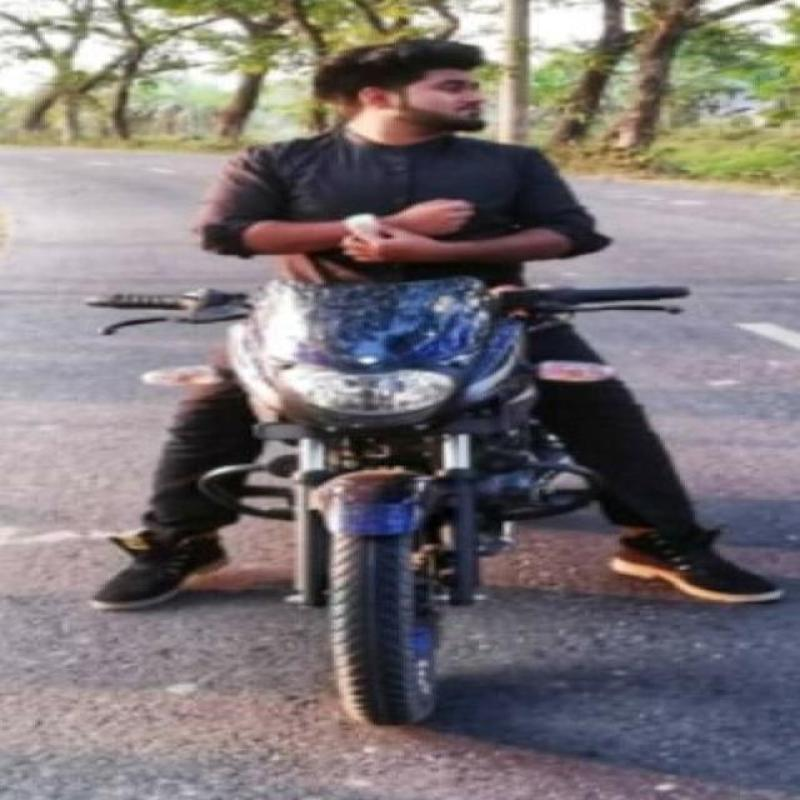nohelmet: (278, 44, 557, 141)
